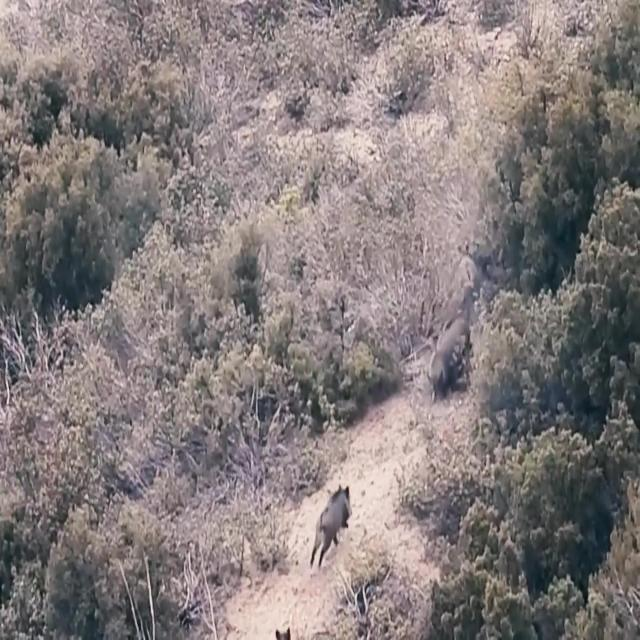pig: (422, 294, 484, 406), (304, 476, 364, 570)
